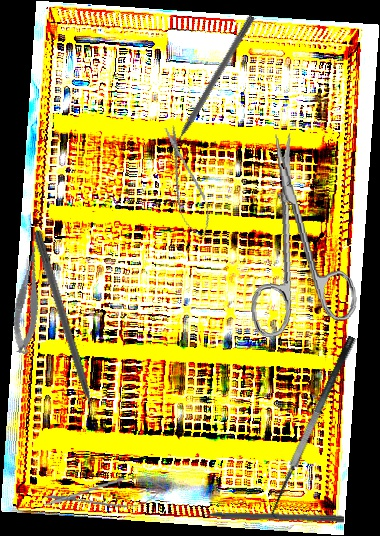Iris Scissors: (233, 127, 360, 339)
Micro Scissor: (154, 122, 218, 242), (41, 472, 166, 517), (5, 244, 53, 355)
Pusher: (30, 229, 103, 434), (164, 13, 256, 158), (184, 508, 345, 523)
Spatula Surgical: (260, 334, 372, 523)
